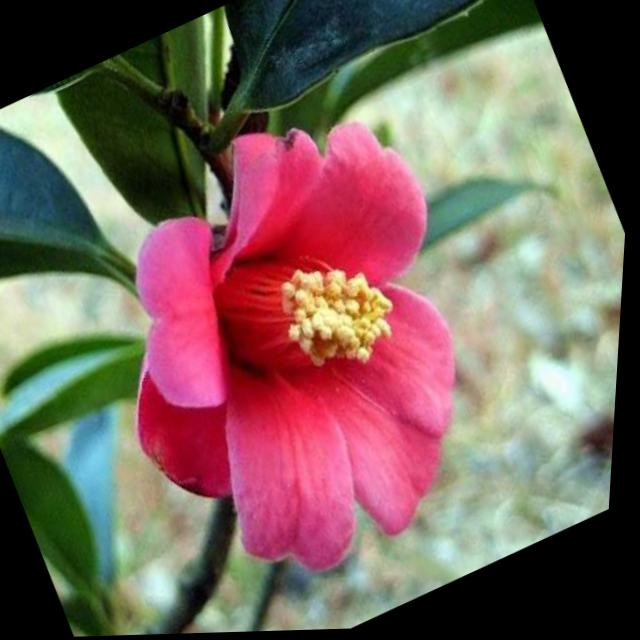Flower: (48, 80, 567, 637)
